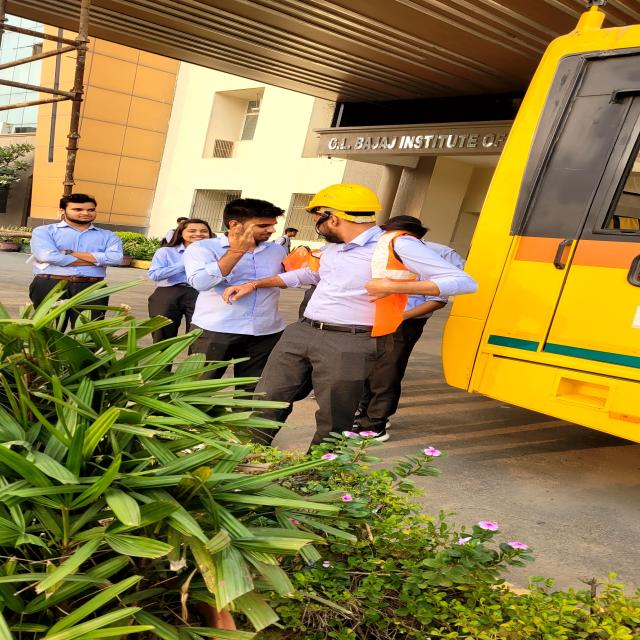safe: (268, 181, 465, 460)
unsafe: (175, 196, 296, 372), (29, 192, 116, 332)
